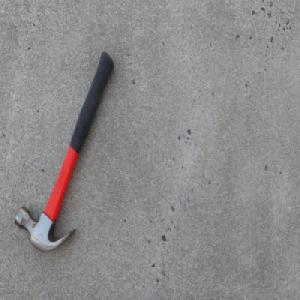Hammer: (13, 50, 114, 254)
